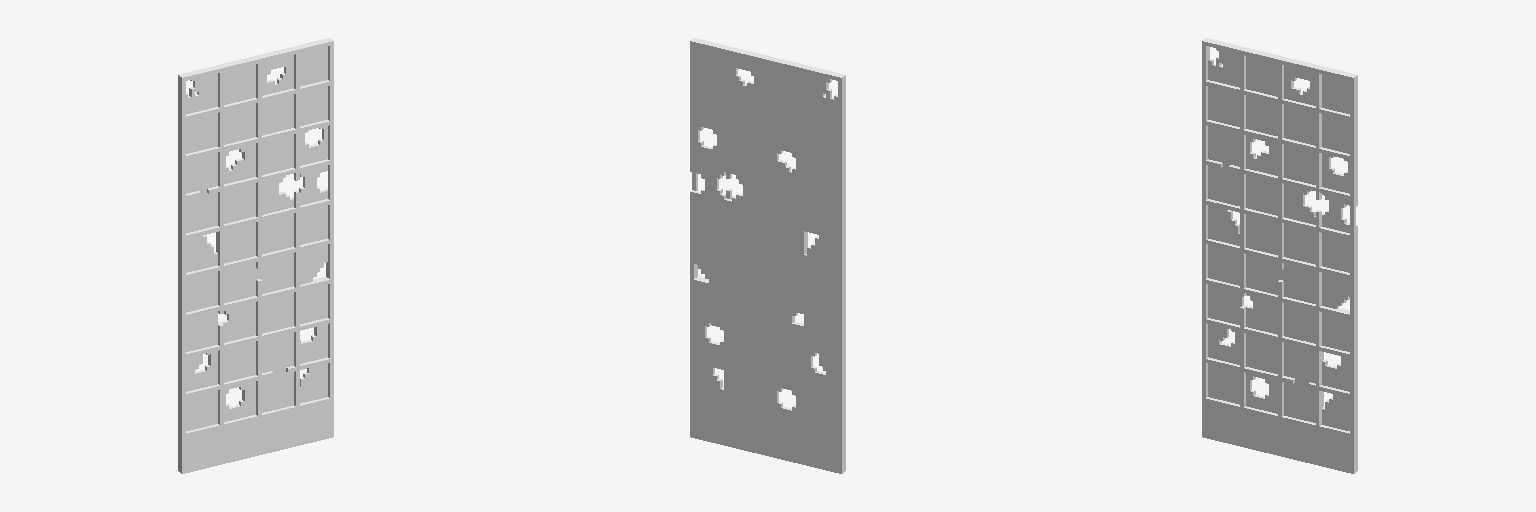
The model's file is Environment-6.obj.
3 views of the same model, side by side, from view 1: azimuth 30°, elevation 25°; view 2: azimuth 150°, elevation 25°; view 3: azimuth 330°, elevation 25° (orthographic).
Parts seen in each view (by area): view 1: object 1; view 2: object 1; view 3: object 1.
Part boxes in pixels (left/top/right/bottom): object 1: left=178, top=38, right=333, bottom=473; object 1: left=690, top=38, right=845, bottom=473; object 1: left=1202, top=38, right=1357, bottom=473.
Size of the model in its own units: 4 by 10 by 0.2.